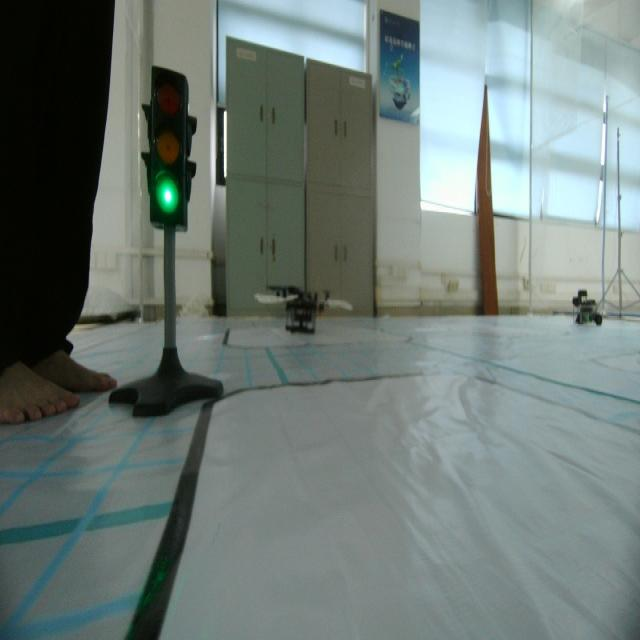green: (136, 49, 195, 238)
